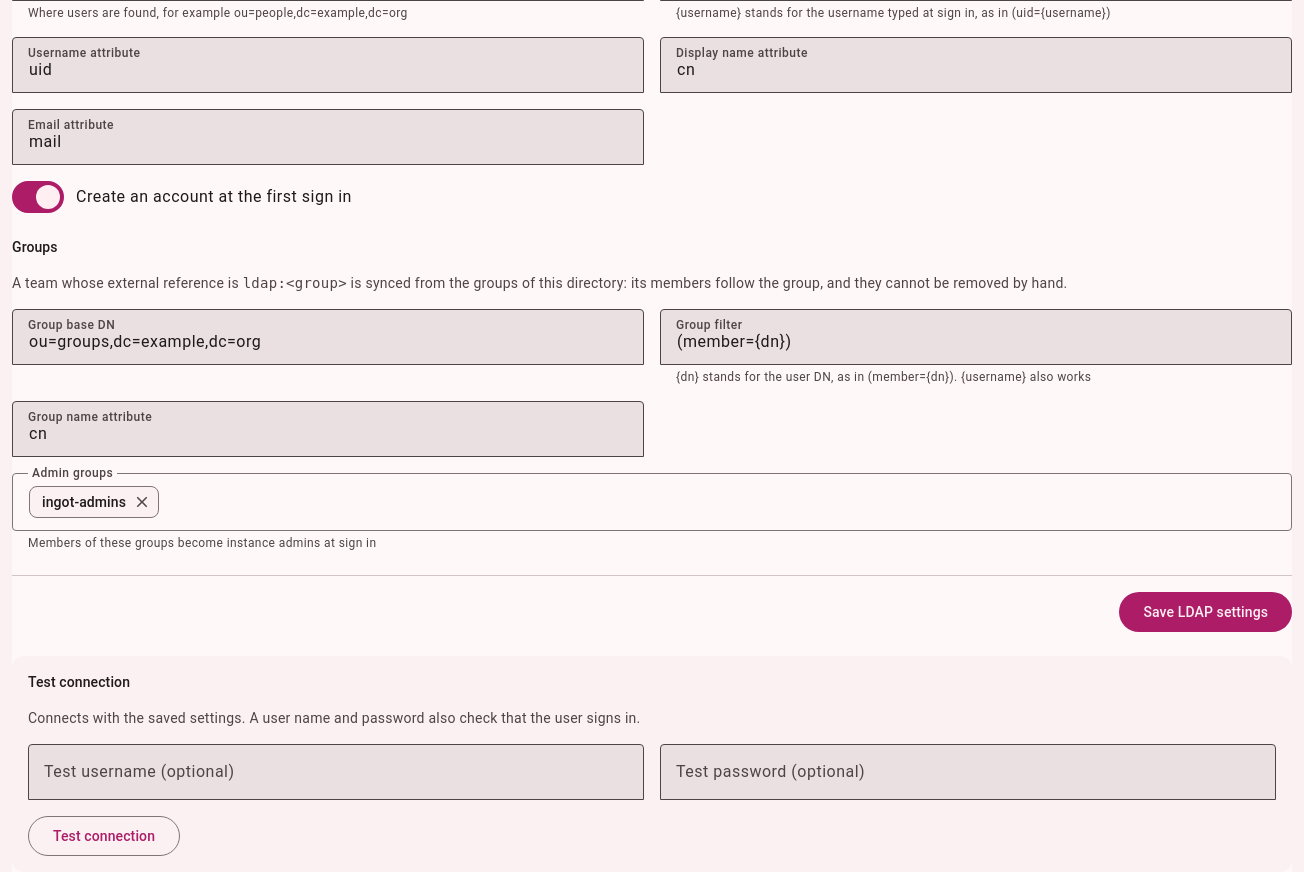
Test: LdapPanel › test connection › shows a failed request as a failed test
(page scrolled)
Click the button "Test connection".
click(104, 836)  # box x1=28 y1=816 x2=180 y2=856
(page scrolled)
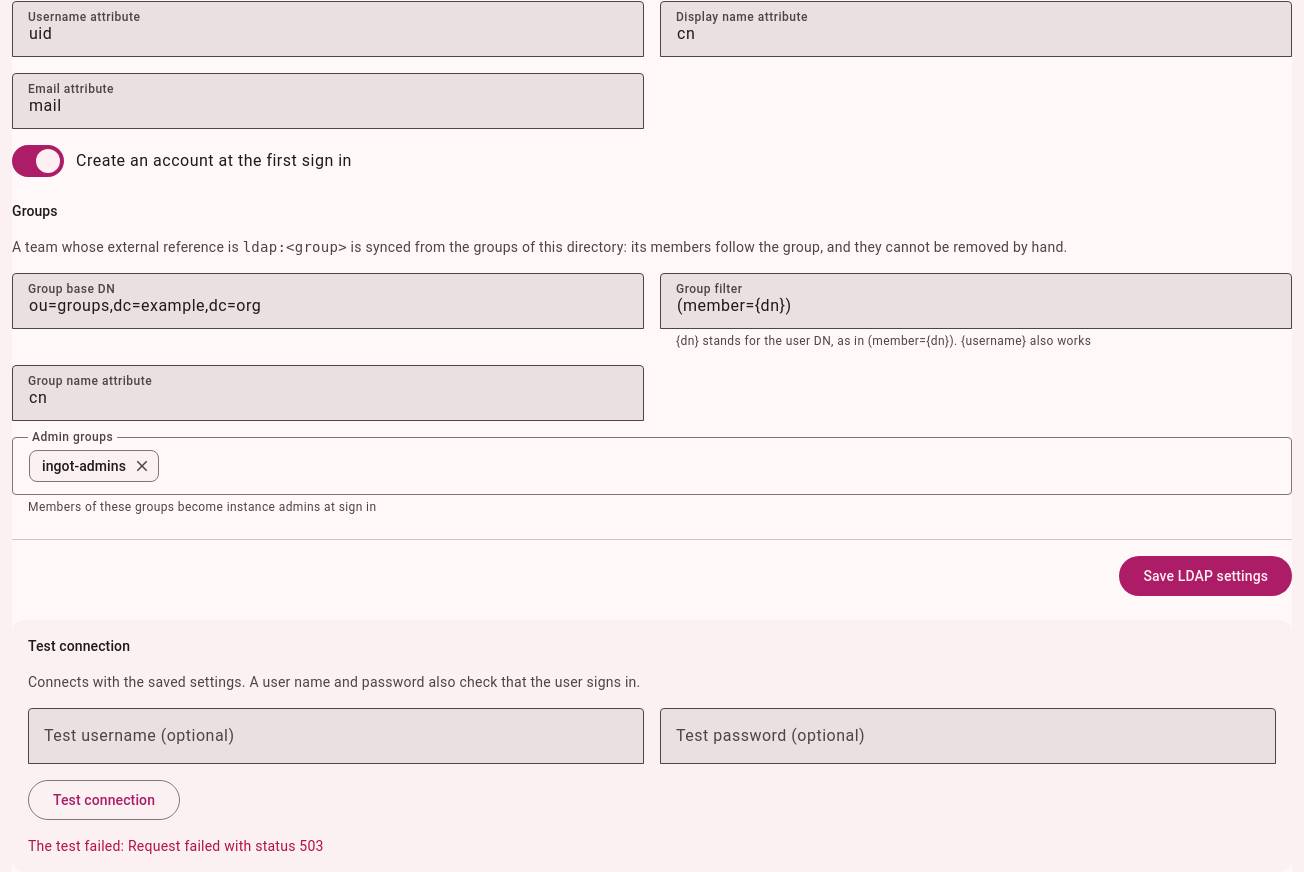
expect the message with test id "ldap-test-result" reads "The test failed: Request failed with status 503": met, box x1=28 y1=838 x2=324 y2=854
